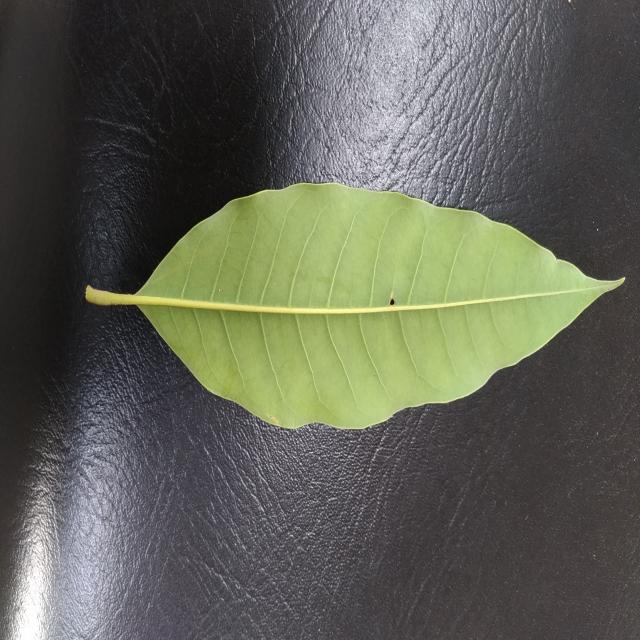coffee: (86, 184, 624, 429)
